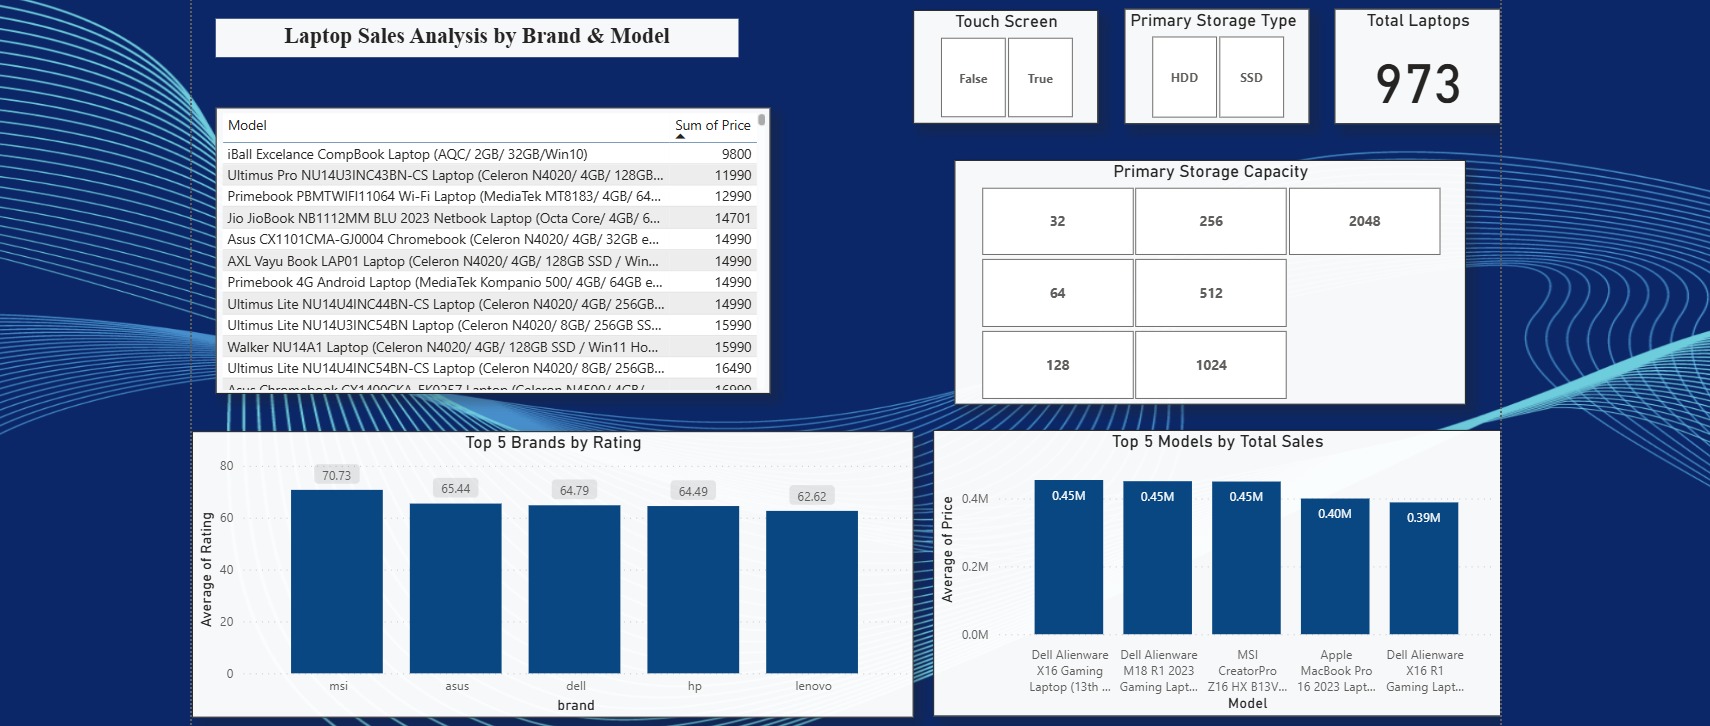

Layout of this report page (visuals, bound fields, positions):
{"tool":"powerbi","page":{"name":"Page 1","canvas":[1280,720],"ordinal":0},"visuals":[{"type":"columnChart","title":"Top 5 Brands by Rating","fields":{"Category":["laptops.brand"],"Y":["Avg(laptops.Rating)"]},"box":[0,431.5,705.3,279.9],"z":0},{"type":"columnChart","title":"Top 5 Models by Total Sales","fields":{"Y":["Avg(laptops.Price)"],"Category":["laptops.Model"]},"box":[724.9,430.3,555,279.9],"z":1000},{"type":"textbox","box":[23.2,28.1,511,37.9],"z":2000},{"type":"tableEx","fields":{"Values":["laptops.Model","Sum(laptops.Price)"]},"box":[23.2,114.9,542.8,279.9],"z":3000},{"type":"card","title":"Total Laptops","fields":{"Values":["CountNonNull(laptops.index)"]},"box":[1117.3,18.3,162.6,112.5],"z":4000},{"type":"slicer","title":"Primary Storage Capacity","fields":{"Values":["laptops.primary_storage_capacity"]},"box":[745.7,166.2,500,239.6],"z":5000},{"type":"slicer","title":"Primary Storage Type","fields":{"Values":["laptops.primary_storage_type"]},"box":[911.9,18.3,180.9,112.5],"z":6000},{"type":"slicer","title":"Touch Screen","fields":{"Values":["laptops.is_touch_screen"]},"box":[705.3,19.6,180.9,111.2],"z":7000}]}

Visuals, with their boxes in screenshot pixels (x1, y1, x2, y2):
"Top 5 Brands by Rating" columnChart: BBox(183, 427, 910, 715)
"Top 5 Models by Total Sales" columnChart: BBox(930, 426, 1502, 714)
textbox: BBox(206, 11, 733, 50)
tableEx - laptops.Model x Sum(laptops.Price): BBox(206, 101, 766, 389)
"Total Laptops" card: BBox(1334, 1, 1502, 117)
"Primary Storage Capacity" slicer: BBox(951, 153, 1467, 400)
"Primary Storage Type" slicer: BBox(1123, 1, 1309, 117)
"Touch Screen" slicer: BBox(910, 2, 1096, 117)
